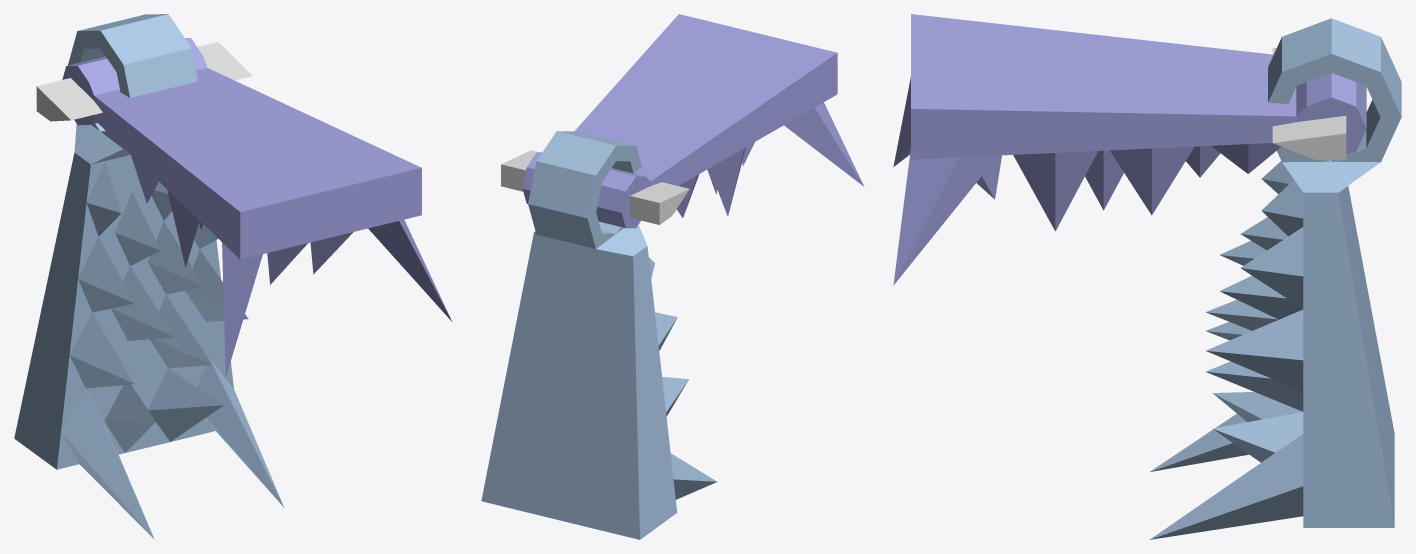
File: trap.dae
3 renders of one model, left to right at view 1: azimuth 30°, elevation 25°; view 2: azimuth 150°, elevation 25°; view 3: azimuth 270°, elevation 25°, orthographic. The views are drawn at different scales.
Visible parts, largest first — view 1: Cylinder, Cylinder_001, Cylinder_002; view 2: Cylinder, Cylinder_001, Cylinder_002; view 3: Cylinder, Cylinder_001, Cylinder_002.
Part boxes in pixels (x1=…): Cylinder: x1=14, y1=14, x2=284, y2=539; Cylinder_001: x1=62, y1=38, x2=452, y2=377; Cylinder_002: x1=36, y1=42, x2=252, y2=121; Cylinder: x1=481, y1=131, x2=717, y2=539; Cylinder_001: x1=522, y1=14, x2=864, y2=228; Cylinder_002: x1=501, y1=150, x2=689, y2=224; Cylinder: x1=1149, y1=18, x2=1401, y2=539; Cylinder_001: x1=893, y1=14, x2=1366, y2=285; Cylinder_002: x1=1272, y1=47, x2=1346, y2=160.
Size of the model in its own units: 4 by 7.25 by 7.4.
